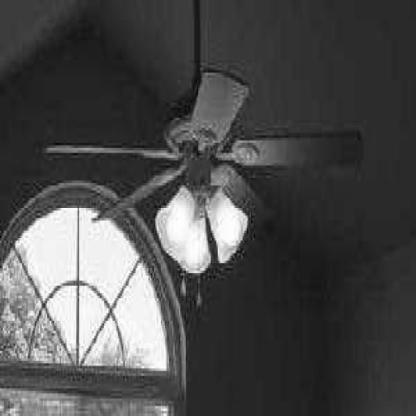ceiling-fan: (40, 65, 365, 279)
